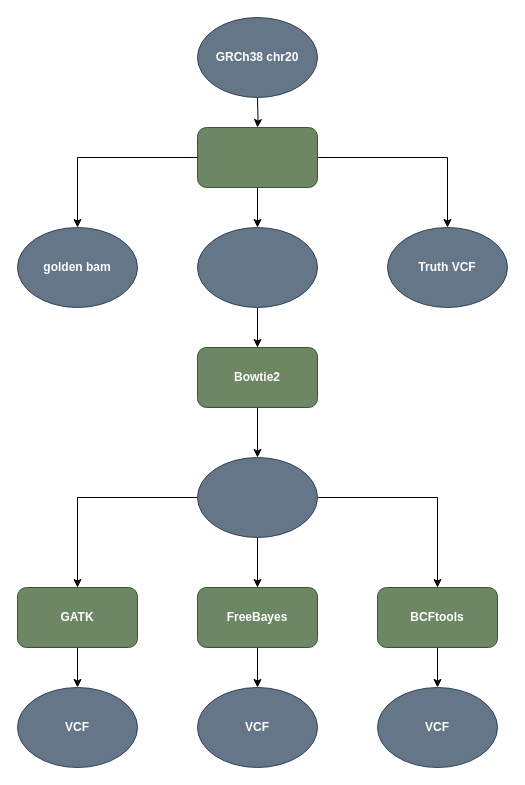
Image size: 525x785. Some labels were removed from this diagram. The shapes that lost their labels are listed below. From the top down, each one's centre as x and y in pixels, then its label:
At [257,157]: "Holodeck".
At [257,267]: "simulated FASTQ".
At [257,497]: "Bam file".
